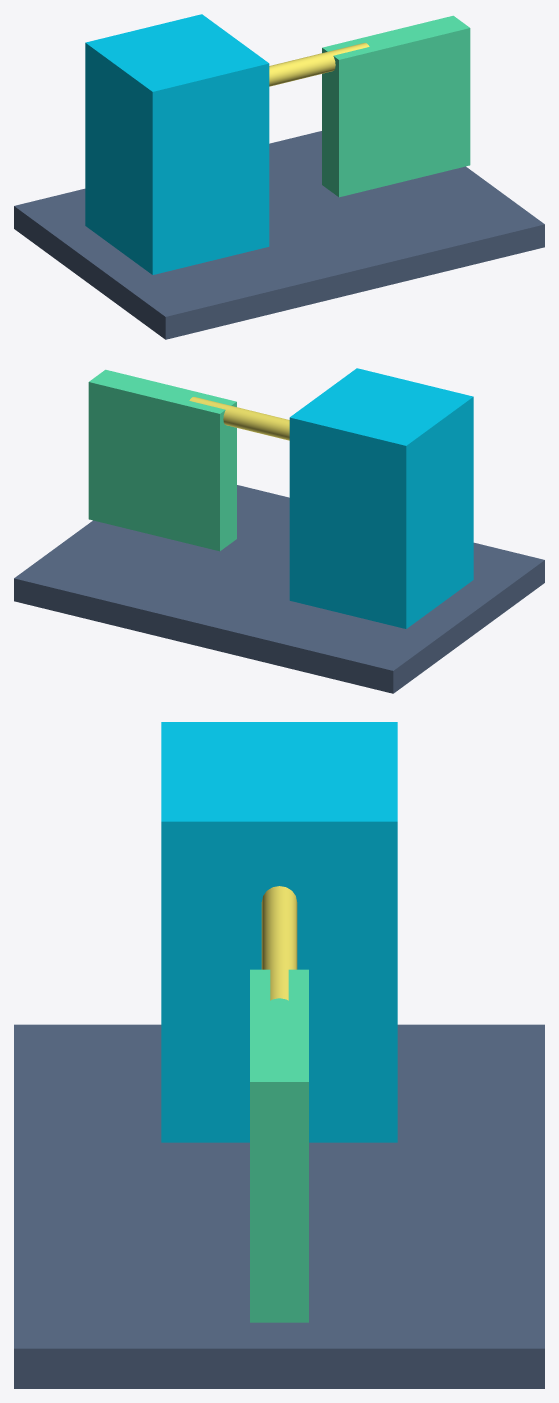
The model's file is c_programming_ee.glb.
The picture shows the model from 3 angles, top to bottom: view 1: azimuth 30°, elevation 25°; view 2: azimuth 150°, elevation 25°; view 3: azimuth 270°, elevation 25°; orthographic projection. The views are drawn at different scales.
Visible parts, largest first — view 1: CProgrammingTerminalBase, StackMemoryFrameTower, OhmMatrixCalculatorGrid, CPURegisterPointerArm; view 2: CProgrammingTerminalBase, StackMemoryFrameTower, OhmMatrixCalculatorGrid, CPURegisterPointerArm; view 3: CProgrammingTerminalBase, StackMemoryFrameTower, OhmMatrixCalculatorGrid, CPURegisterPointerArm.
Part boxes in pixels (x1,y1,x2,y2): CProgrammingTerminalBase: (14, 131, 544, 339); StackMemoryFrameTower: (85, 14, 269, 274); OhmMatrixCalculatorGrid: (322, 15, 470, 197); CPURegisterPointerArm: (269, 43, 369, 86); CProgrammingTerminalBase: (14, 485, 544, 693); StackMemoryFrameTower: (289, 368, 473, 628); OhmMatrixCalculatorGrid: (88, 369, 236, 551); CPURegisterPointerArm: (189, 397, 289, 440); CProgrammingTerminalBase: (14, 1024, 544, 1388); StackMemoryFrameTower: (161, 722, 397, 1142); OhmMatrixCalculatorGrid: (250, 969, 308, 1322); CPURegisterPointerArm: (261, 886, 297, 1000).
Bounding box in the file's own units: 2.6 × 1.38 × 1.8.
